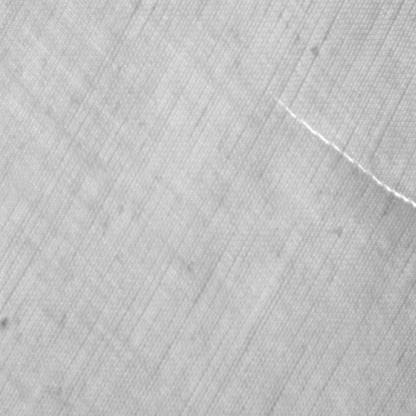hole: (262, 88, 415, 210)
